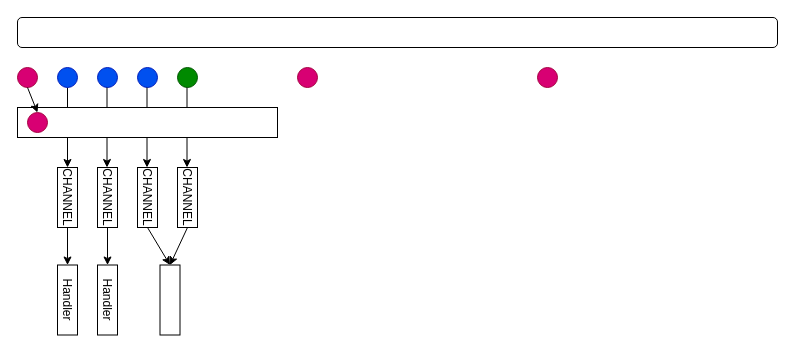
The diagram is 795 pixels wide and 353 high, and some of its shapes have lost their labels. Here are the shapes that lost their labels. From the top down, the box of each, then its label:
(16, 16, 778, 48): WORKER
(16, 106, 278, 138): CONNETION
(159, 264, 180, 335): CGI Handler
